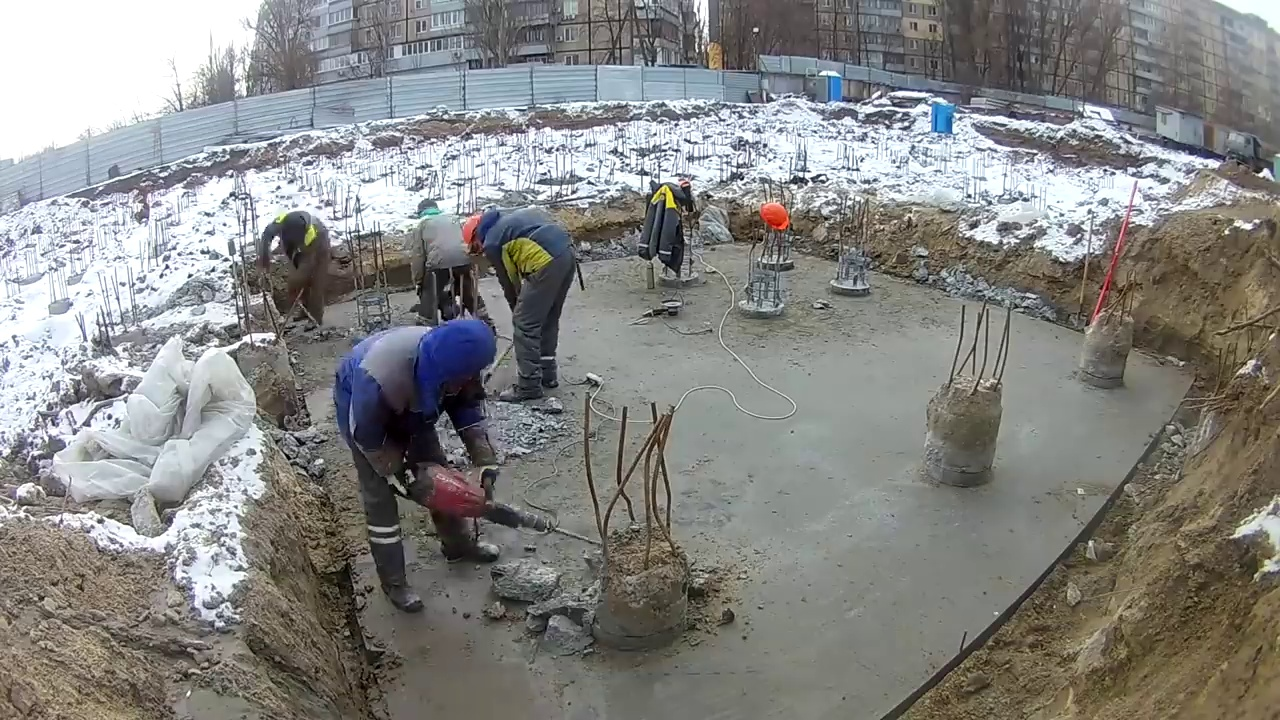helmet: (760, 203, 790, 231), (461, 214, 481, 247)
helmet-off: (421, 313, 500, 405), (275, 210, 316, 250)
helmet-on: (462, 211, 488, 252)
person: (333, 312, 500, 617), (462, 205, 575, 419), (256, 206, 330, 333), (411, 200, 476, 330)
